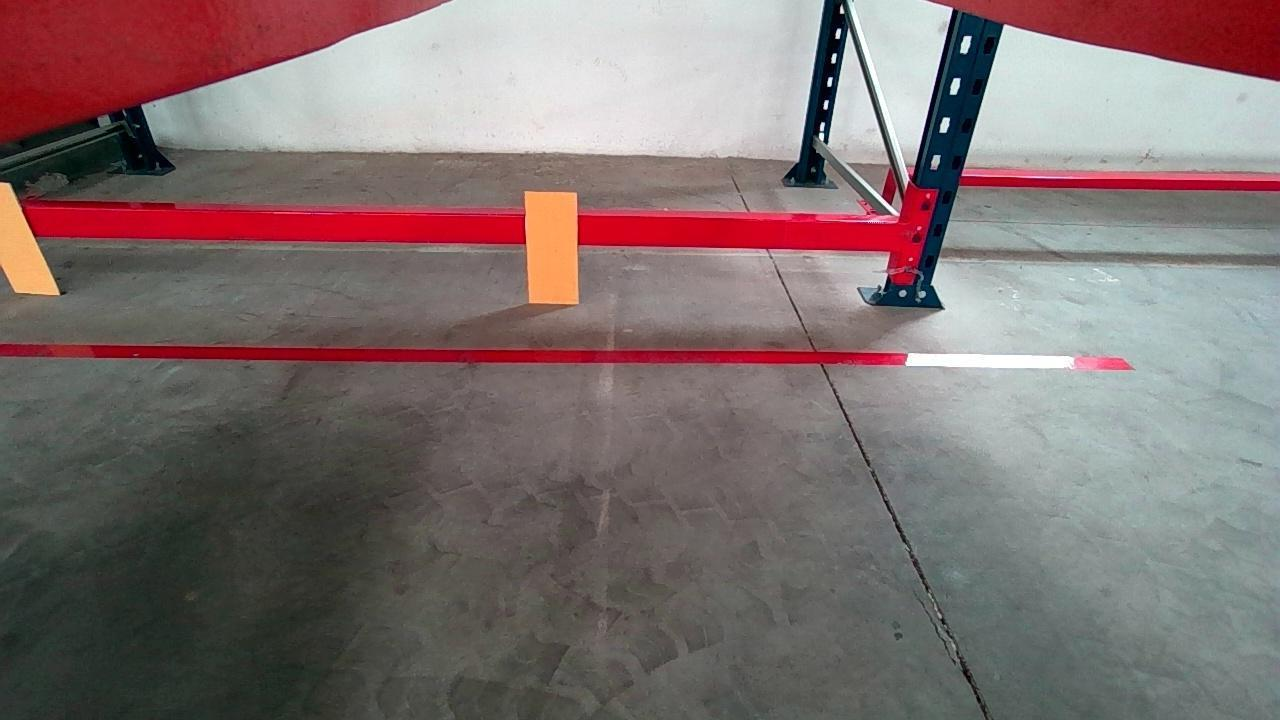h_rack: (0, 208, 903, 250)
orange_strip: (0, 181, 61, 295), (520, 188, 576, 303)
red_line: (0, 341, 1134, 372)
